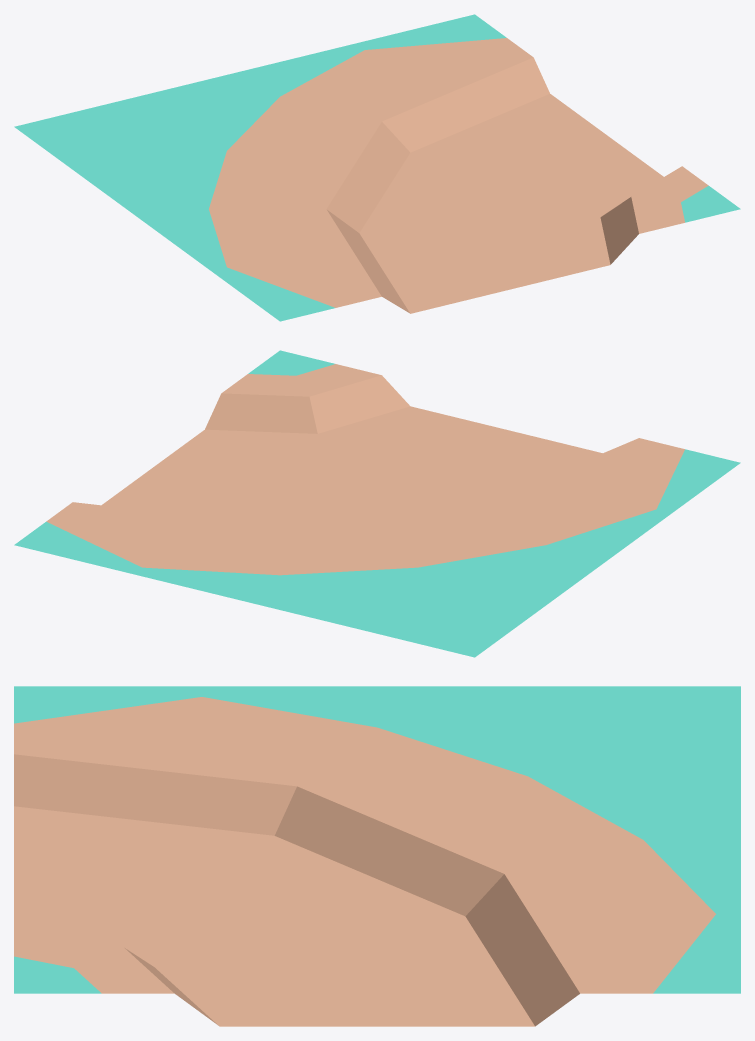
The model's file is ground_pathbendbank.glb.
3 views of the same model, one above another, from view 1: azimuth 30°, elevation 25°; view 2: azimuth 150°, elevation 25°; view 3: azimuth 270°, elevation 25° (orthographic). The views are drawn at different scales.
Parts seen in each view (by area): view 1: ground_pathBendBank; view 2: ground_pathBendBank; view 3: ground_pathBendBank.
Part boxes in pixels (x1,y1,x2,y2): ground_pathBendBank: (14,14,740,321); ground_pathBendBank: (14,350,740,657); ground_pathBendBank: (14,686,740,1026).
Size of the model in its own units: 1 by 0.05 by 1.
